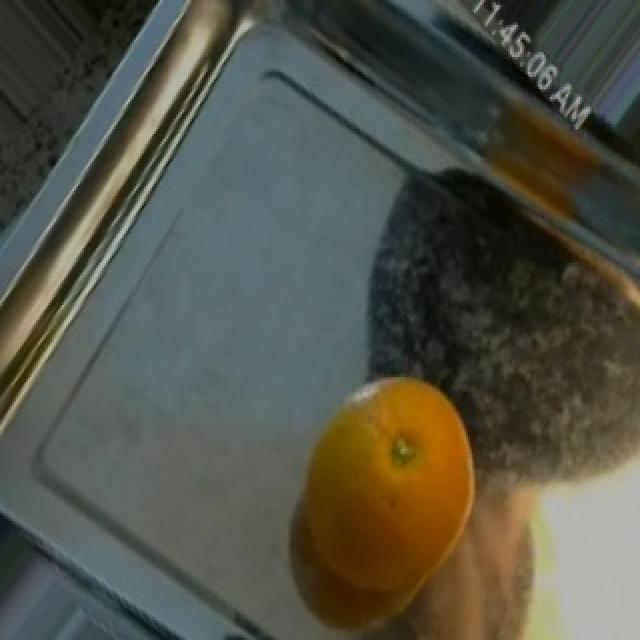Fruit: (264, 354, 502, 640)
